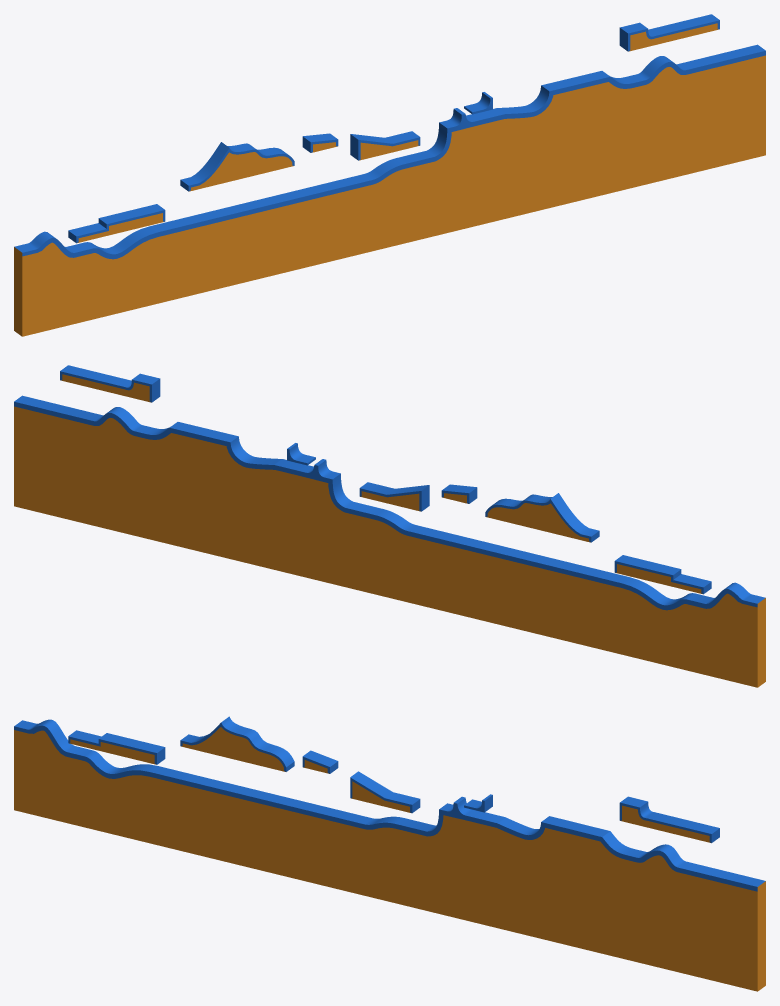
File: StreetMeshA.fbx
3 views of the same model, one above another, from view 1: azimuth 30°, elevation 25°; view 2: azimuth 150°, elevation 25°; view 3: azimuth 330°, elevation 25° (orthographic).
Parts seen in each view (by area): view 1: StreetMeshA, StreetPlatform2, StreetPlatform6, StreetPlatform1, StreetPlatform4, StreetPlatform3; view 2: StreetMeshA, StreetPlatform2, StreetPlatform6, StreetPlatform1, StreetPlatform4, StreetPlatform3; view 3: StreetMeshA, StreetPlatform2, StreetPlatform6, StreetPlatform1, StreetPlatform4, StreetPlatform3.
Boxes of the visible parts, <box> form: StreetMeshA: <box>14,44,765,336</box>; StreetPlatform2: <box>180,142,294,191</box>; StreetPlatform6: <box>619,14,719,51</box>; StreetPlatform1: <box>68,204,165,243</box>; StreetPlatform4: <box>350,131,420,160</box>; StreetPlatform3: <box>302,133,338,152</box>; StreetMeshA: <box>14,395,765,687</box>; StreetPlatform2: <box>485,493,599,542</box>; StreetPlatform6: <box>60,365,160,402</box>; StreetPlatform1: <box>614,555,711,594</box>; StreetPlatform4: <box>359,482,429,511</box>; StreetPlatform3: <box>441,484,477,503</box>; StreetMeshA: <box>14,719,765,991</box>; StreetPlatform2: <box>180,716,294,771</box>; StreetPlatform6: <box>619,796,719,843</box>; StreetPlatform1: <box>68,730,165,764</box>; StreetPlatform4: <box>350,771,420,813</box>; StreetPlatform3: <box>302,750,338,773</box>.
Size of the model in its own units: 104 by 20.7 by 1.99.
